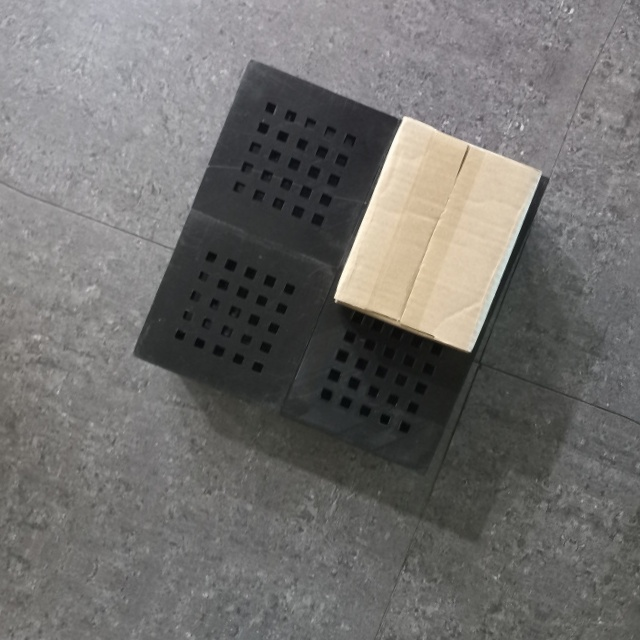box: (327, 111, 545, 358)
pallet: (124, 33, 556, 492)
